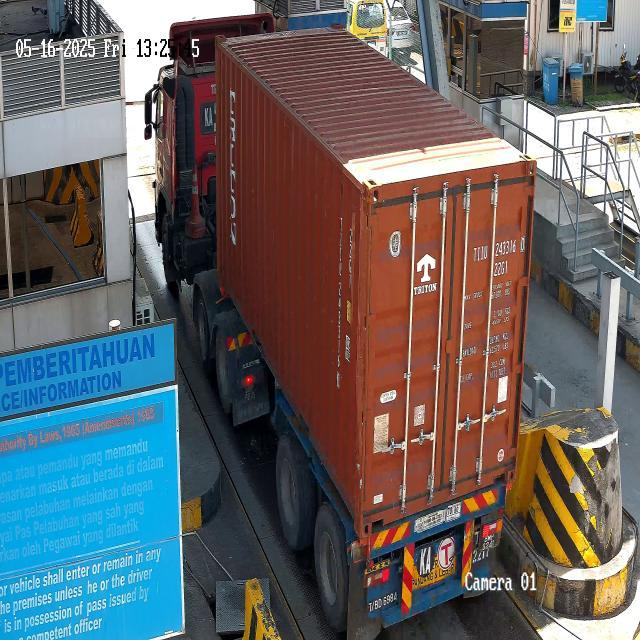ISO: (344, 212, 356, 301), (486, 258, 511, 282)
container_number: (468, 240, 538, 262), (336, 216, 344, 394)
